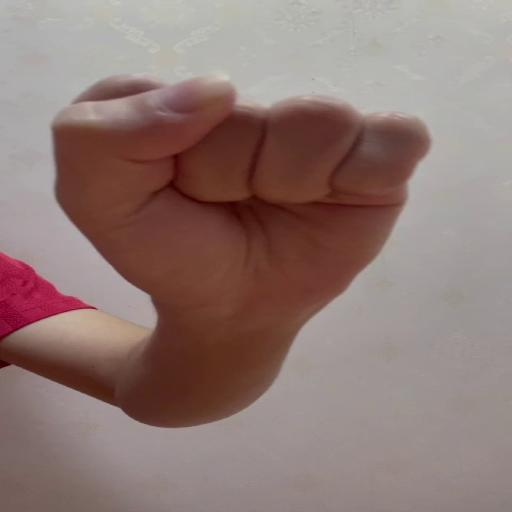fist: (53, 70, 434, 312)
